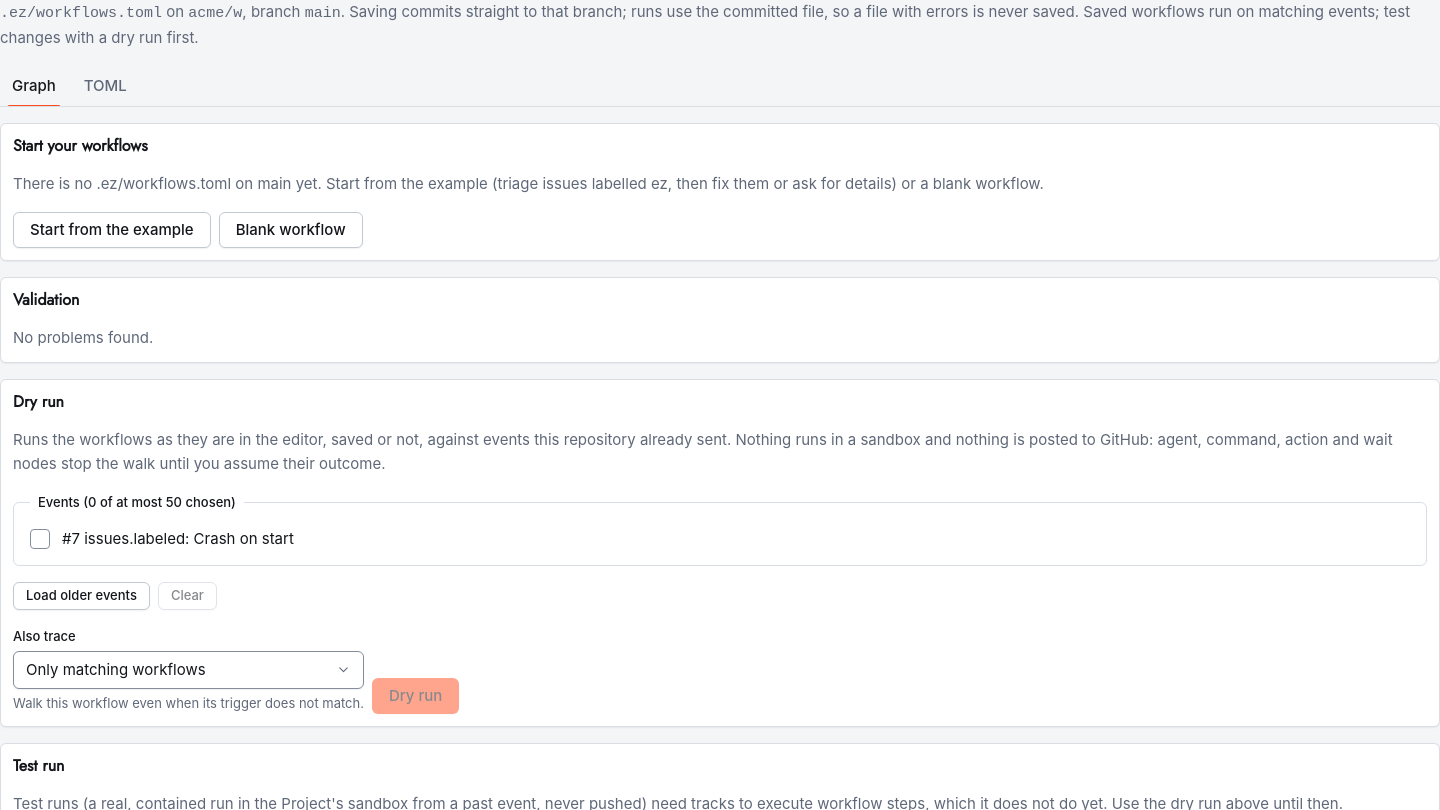
Test case: WorkflowsDesigner › starts a missing file from the example
Click the button "Start from the example". click: (112, 230)
box: [13,212,211,248]
(page scrolled)
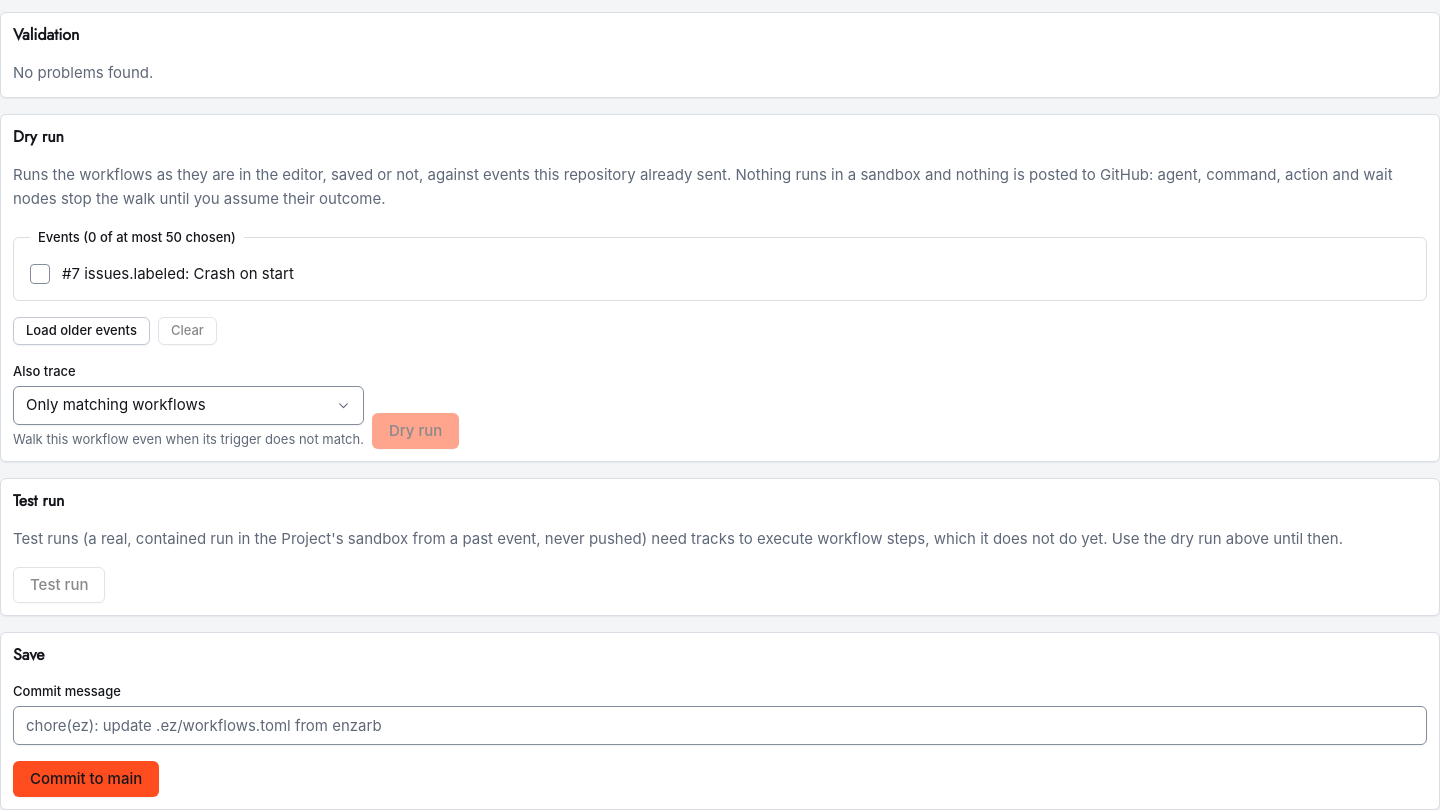
Now the button "Commit to main" is enabled, box [13,761,159,797]
